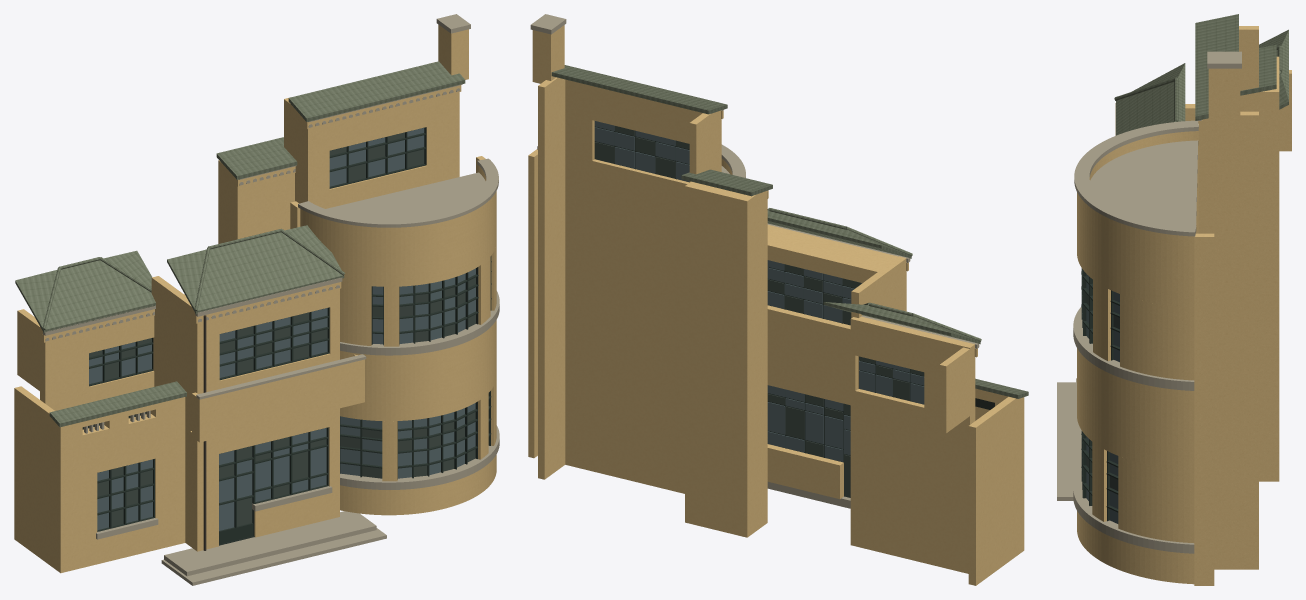
Rendered from yangpu-fudan-jiuyuan-chen-wangdao-former-residence-raw.glb.
3 renders of one model, left to right at view 1: azimuth 30°, elevation 25°; view 2: azimuth 150°, elevation 25°; view 3: azimuth 270°, elevation 25°, orthographic. The views are drawn at different scales.
Visible parts, largest first — view 1: 复旦玖园陈望道旧居花园立面; view 2: 复旦玖园陈望道旧居花园立面; view 3: 复旦玖园陈望道旧居花园立面.
Boxes of the visible parts, x1,y1,x2,y2 form: 复旦玖园陈望道旧居花园立面: [14, 14, 499, 585]; 复旦玖园陈望道旧居花园立面: [528, 14, 1028, 585]; 复旦玖园陈望道旧居花园立面: [1057, 14, 1291, 585].
Bounding box in the file's own units: 14.03 × 12.88 × 5.23.
Materials: 8 (2 with a texture image).
